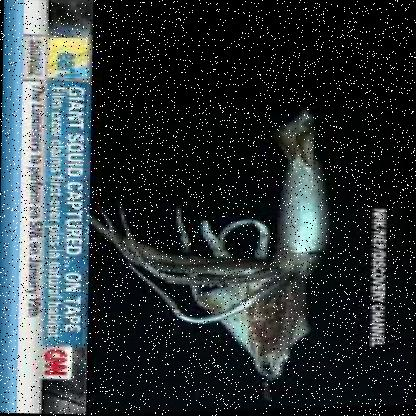colossal_squid: (122, 112, 344, 399)
